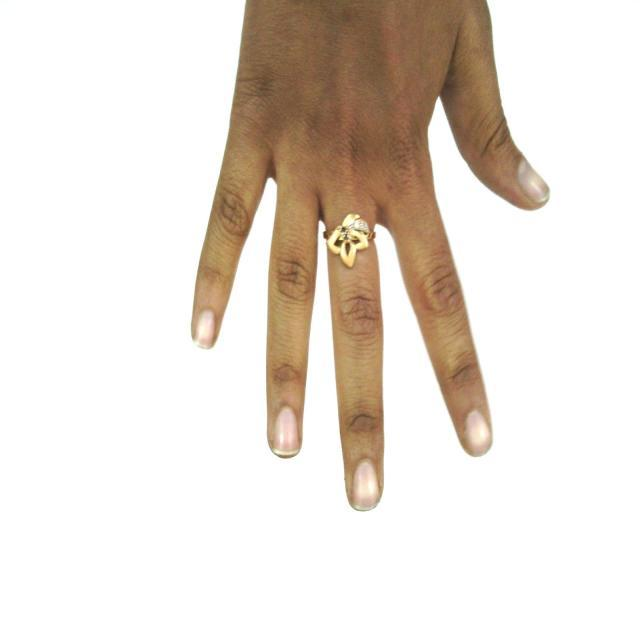Fingernail: (353, 461, 380, 510), (273, 407, 299, 457), (519, 160, 549, 203), (465, 411, 490, 456), (195, 310, 216, 348)
